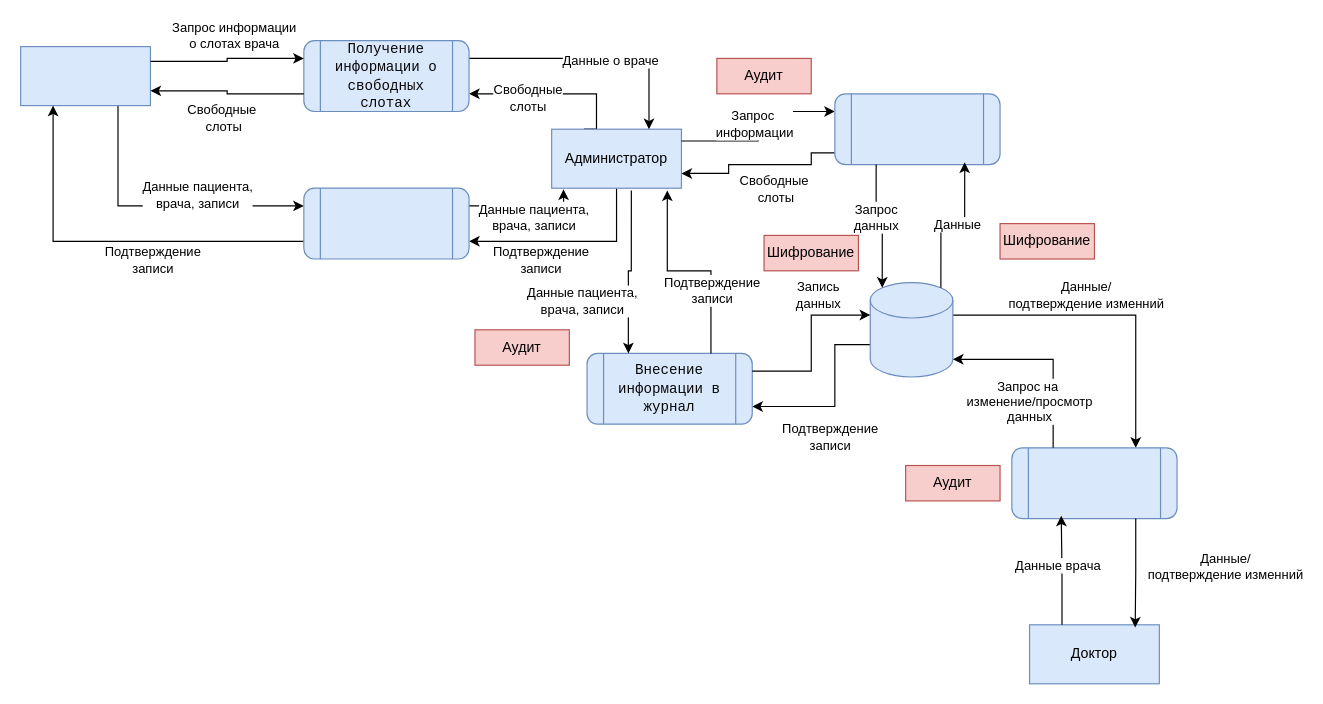
The diagram is 1323 pixels wide and 704 high, and some of its shapes have lost their labels. The shapes that lost their labels are listed below. From the top down, each one's box as (x1, y1, x2, y2) in pixels, then its label:
(19, 45, 150, 106): Пациент
(834, 93, 1000, 165): Поиск информации о слотах врача
(303, 187, 469, 259): Запись на прием
(869, 281, 953, 377): Журнал докторов
(1011, 447, 1177, 519): Просмотр/изменеие данных в журнале
